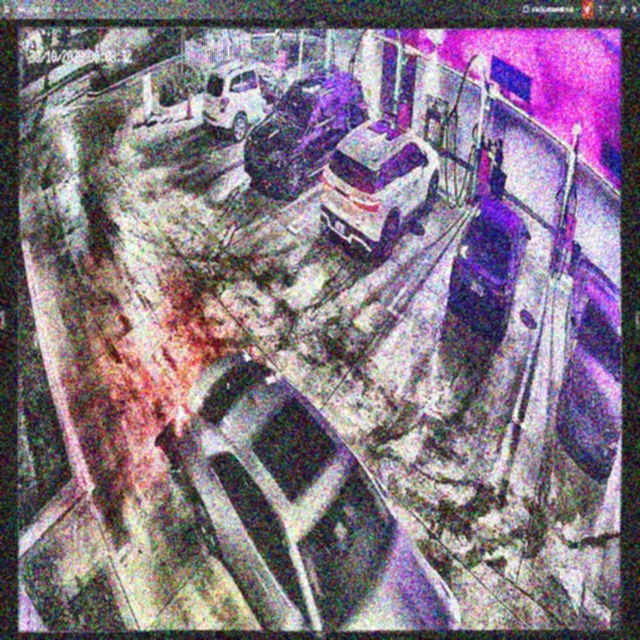Car: (174, 350, 462, 630), (322, 118, 442, 262), (244, 72, 369, 194), (449, 197, 533, 338)
